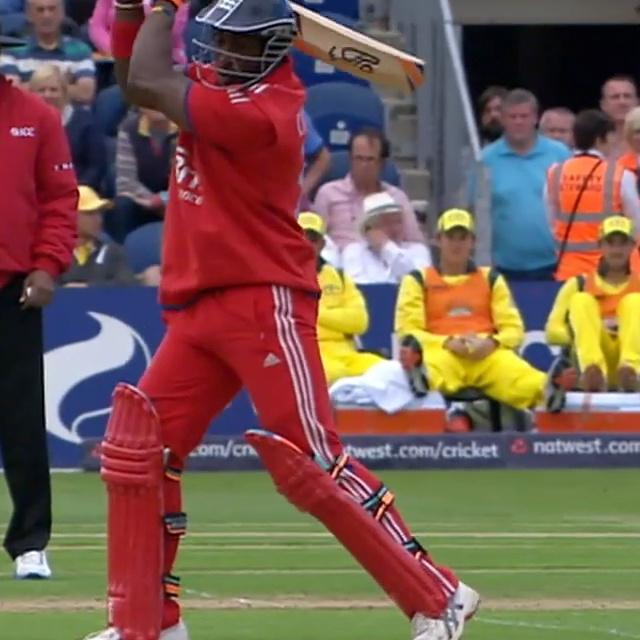umpire: (0, 0, 88, 590)
